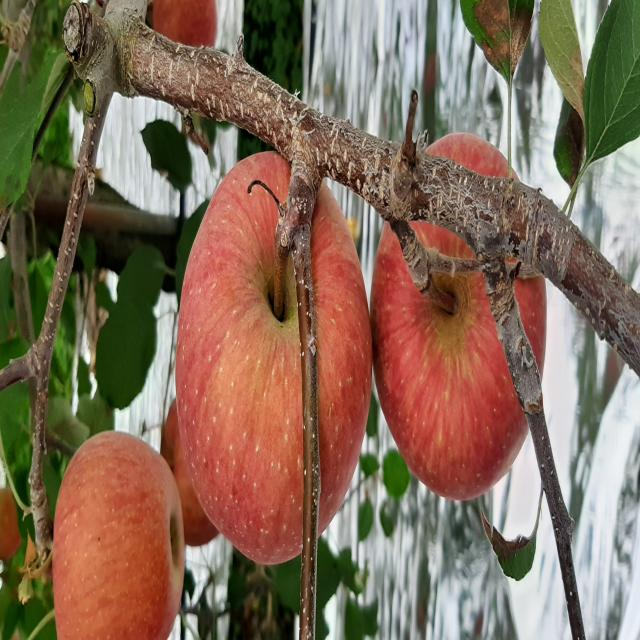fresh: (174, 139, 377, 576), (50, 419, 194, 640)
